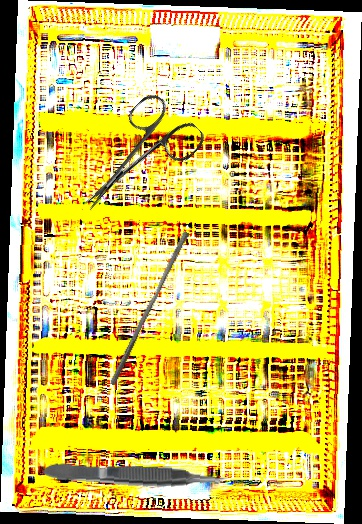Iris Scissors: (61, 86, 209, 235)
Pusher: (109, 228, 190, 389)
Tissue Forceps: (41, 457, 231, 493)
